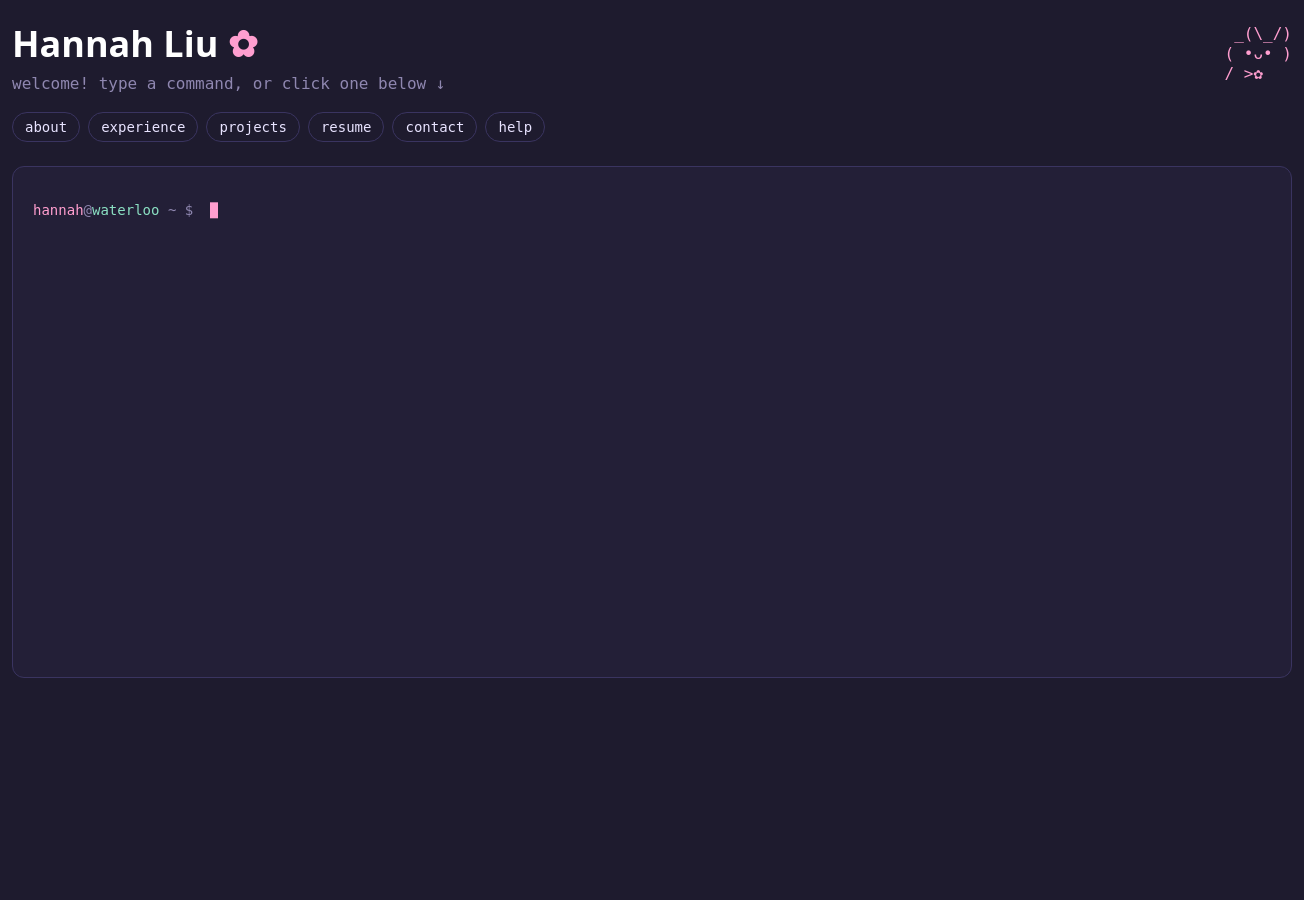
Terminal › clear empties the output
The width and height of the screenshot is (1304, 900).
Type "help" into the field named "command" at (740, 210), box x1=210 y1=199 x2=1271 y2=222
Then press Enter
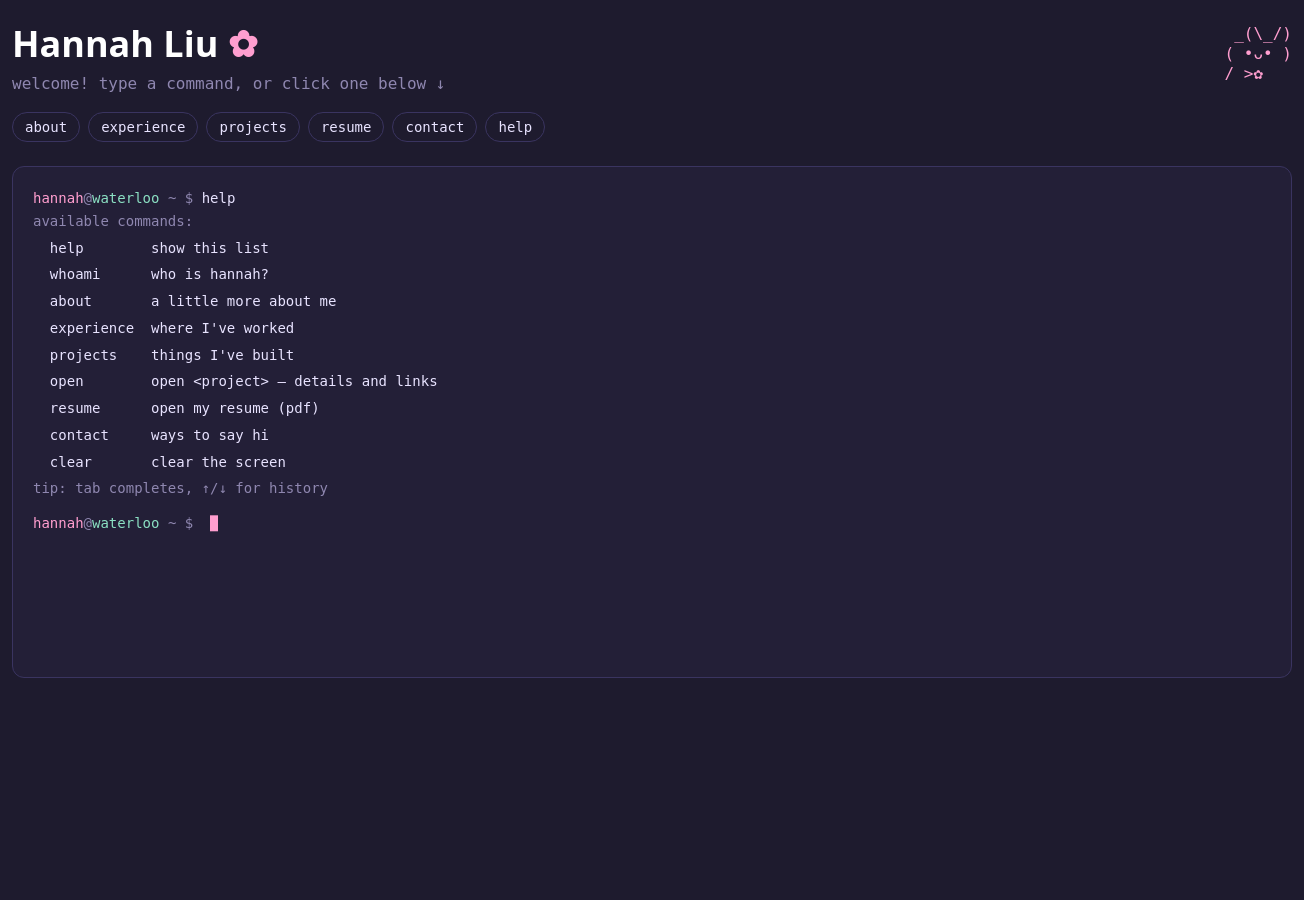
Type "clear" into the field named "command" at (740, 523), box x1=210 y1=512 x2=1271 y2=535
Then press Enter
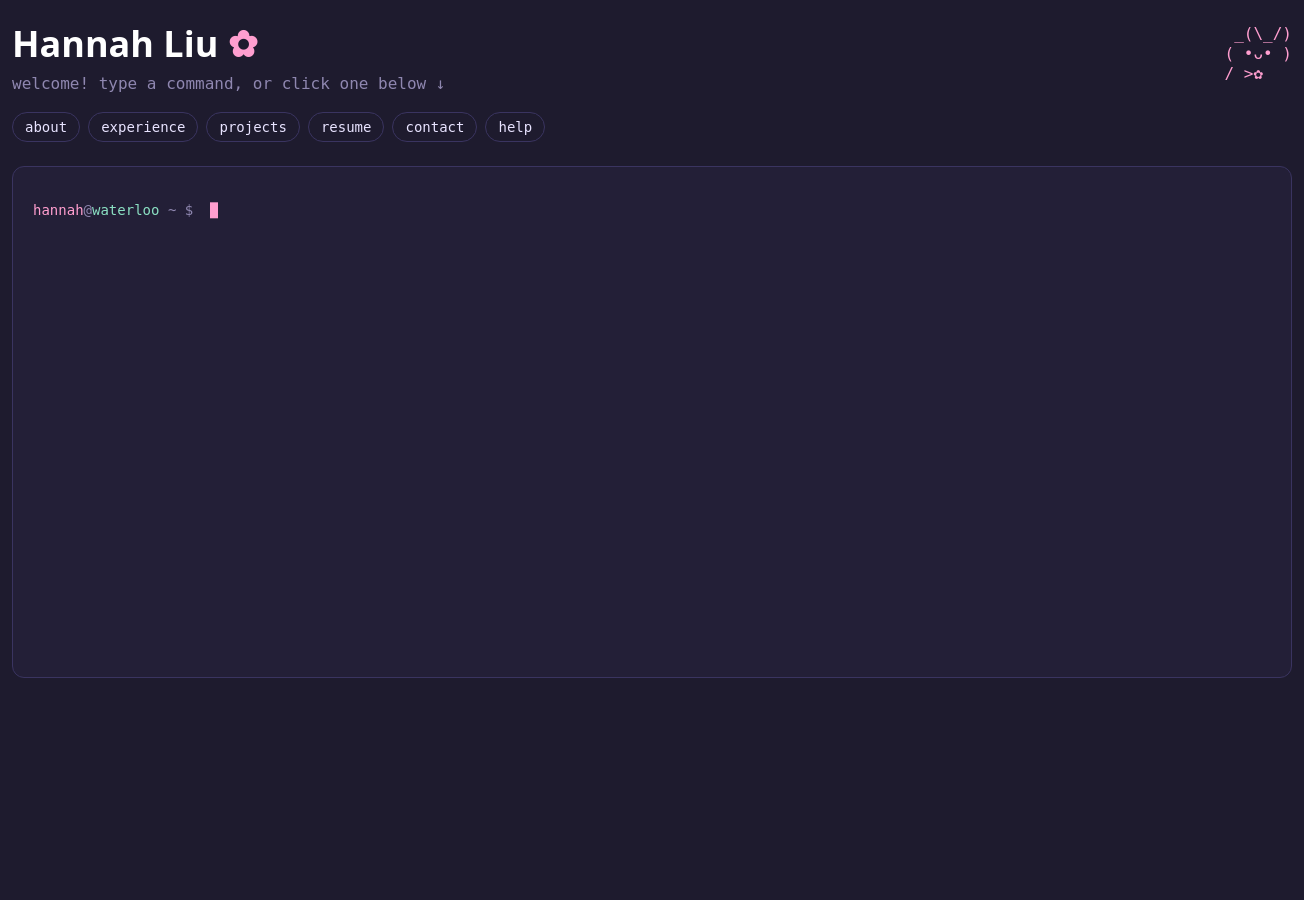
expect the text with test id "terminal-output" no longer shows "available commands": met
